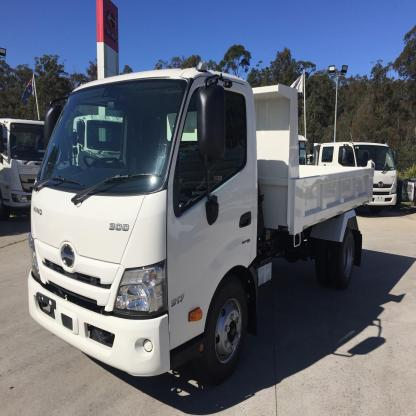dump_truck: (22, 51, 394, 400)
